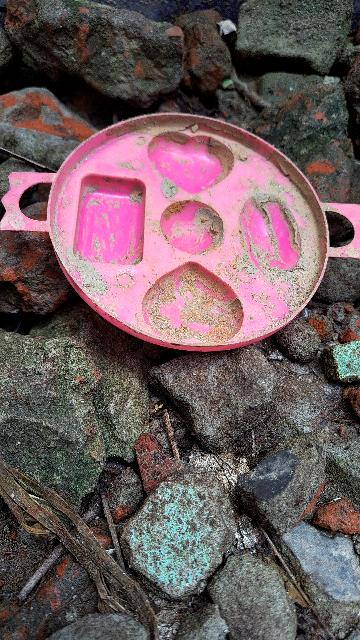hardplastic: (52, 106, 334, 356)
